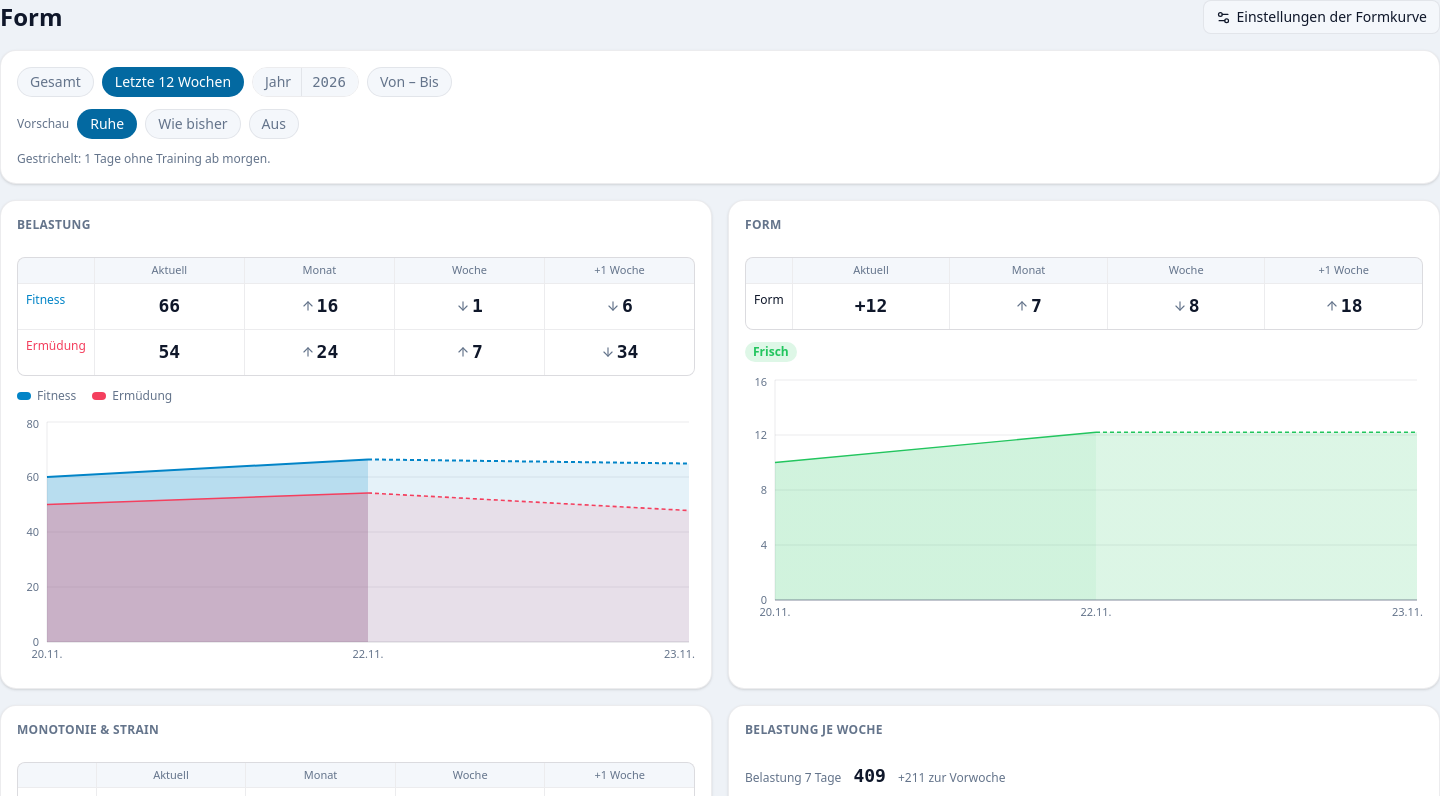
Scenario: Seite Form › ⓘ öffnet je Abschnitt ein Erklärfenster; Escape schließt nur das Erklärfenster
The width and height of the screenshot is (1440, 796).
Expected: the text "Frisch" is shown, [745,342,797,362]
Click the button "Einstellungen der Formkurve".
click(1321, 17)  # box [1202,0,1439,34]
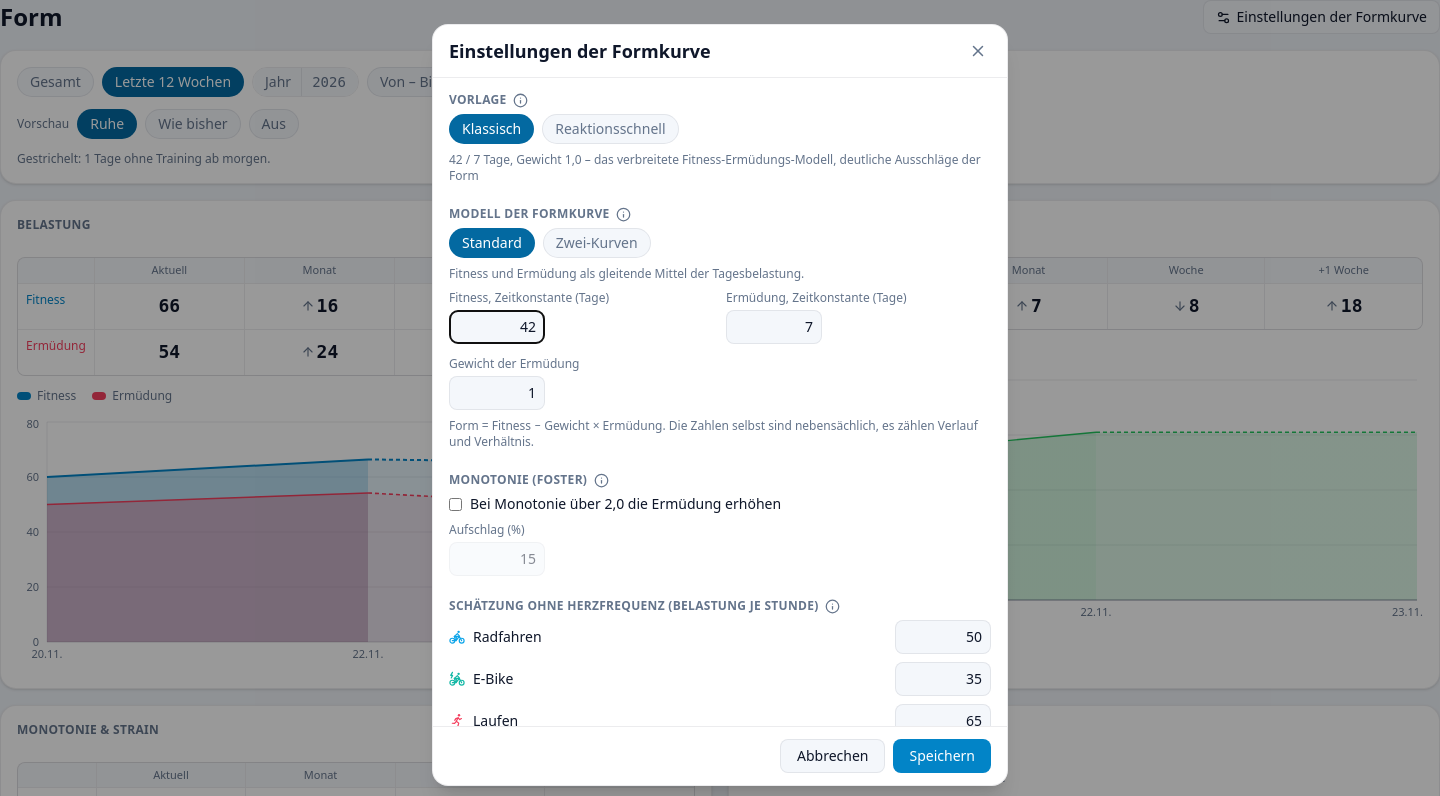
Result: the element named "Vorlage" is shown at [449,114,678,144]
Result: the button named "Erklärung: Modell, Zeitkonstanten und Gewicht" is shown
Click the button named "Erklärung: Modell, Zeitkonstanten und Gewicht".
click(624, 214)  # box [614,204,634,224]
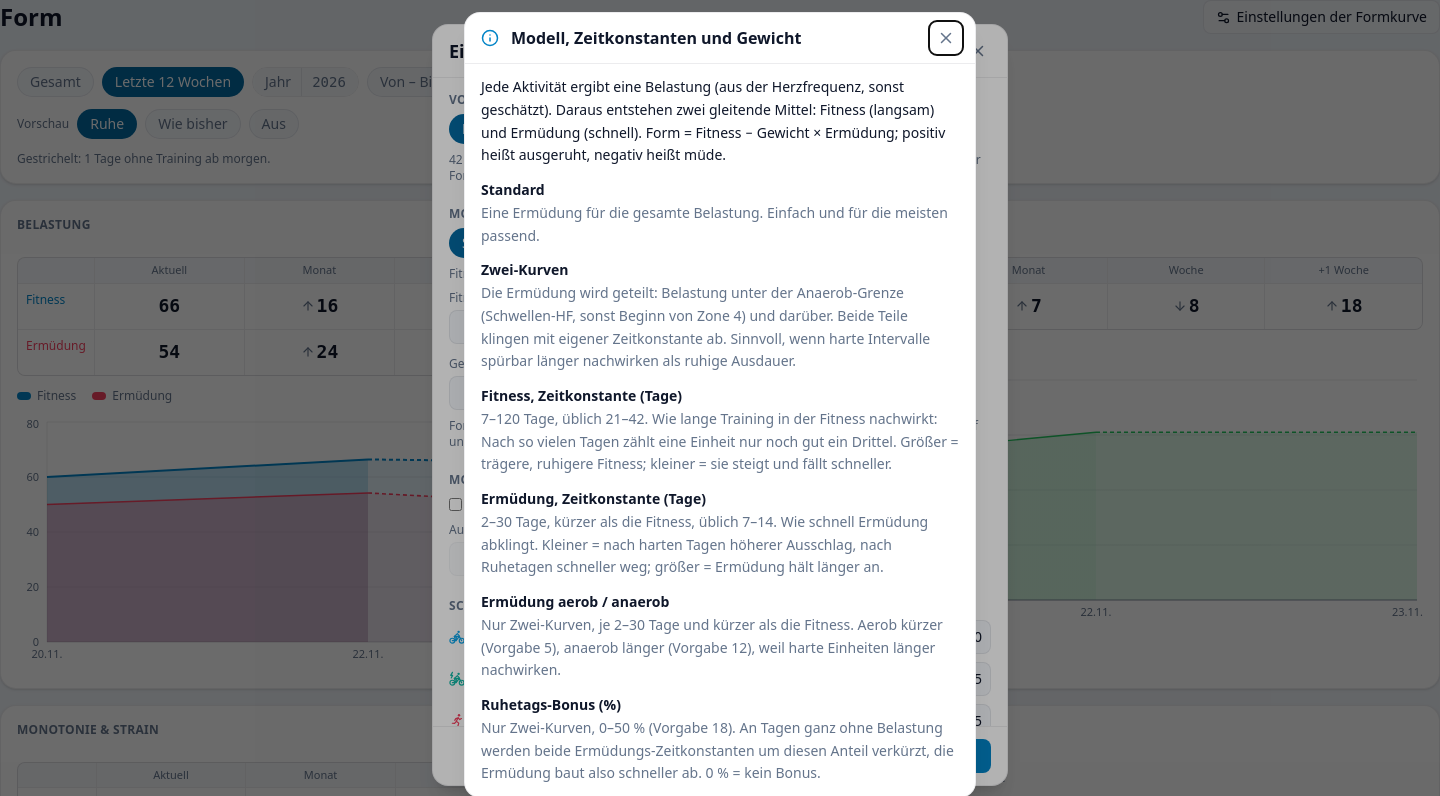
Result: the dialog "Modell, Zeitkonstanten und Gewicht" shows "Form = Fitness − Gewicht × Ermüdung" at [481,77,945,164]
Press Escape
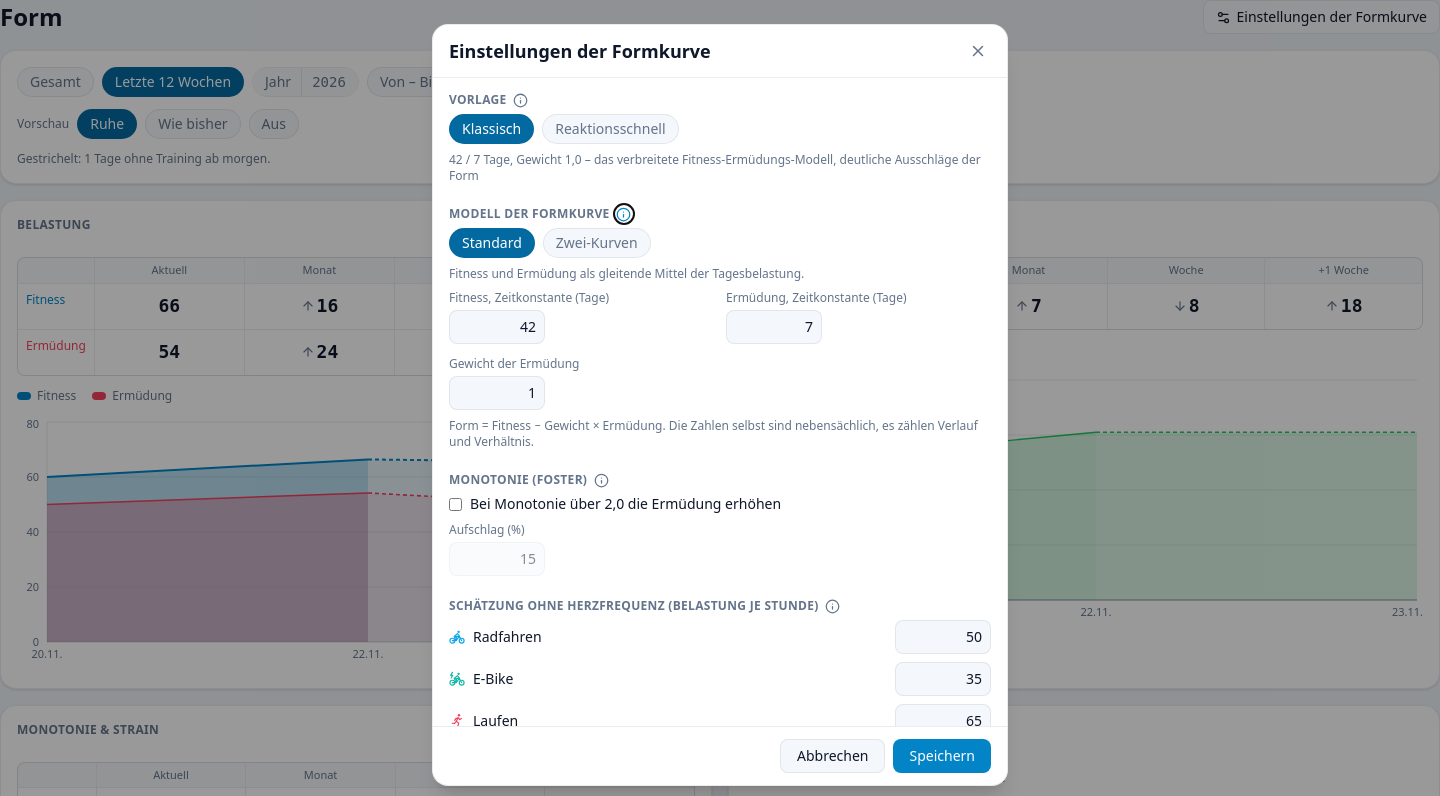
Result: the dialog "Einstellungen der Formkurve" is shown at [432,24,1008,786]
Result: the heading "Modell, Zeitkonstanten und Gewicht" is gone
